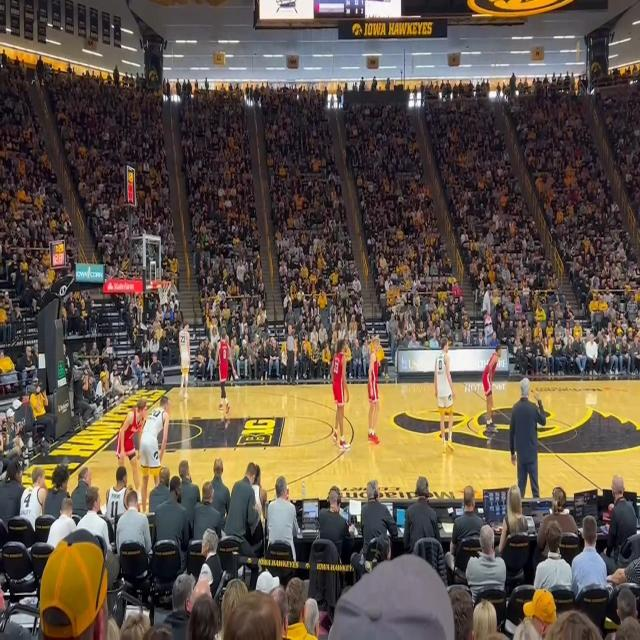Hoop: (156, 281, 172, 305)
Player: (139, 396, 170, 518), (116, 400, 148, 506), (432, 337, 458, 455), (367, 338, 387, 444), (331, 341, 350, 451), (482, 344, 502, 432), (216, 331, 230, 414), (178, 321, 190, 403)
Ref: (284, 326, 296, 387)
